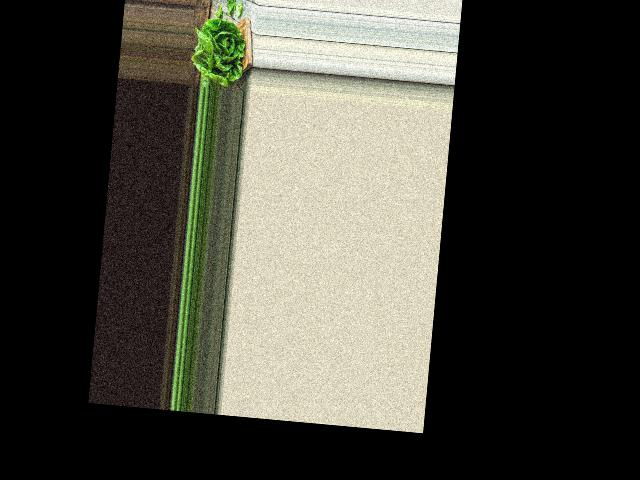lettuce: (190, 19, 250, 89)
